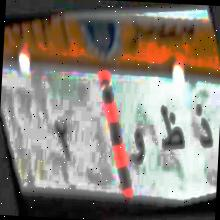2: (51, 120, 75, 164)
Thaa: (156, 102, 188, 160)
waw: (126, 123, 146, 172)
zaal: (189, 95, 215, 162)
